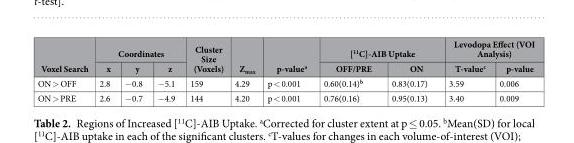table: (36, 37, 534, 103)
table column: (314, 37, 380, 103), (36, 37, 93, 103), (380, 37, 437, 103), (260, 37, 314, 103), (437, 37, 491, 103), (181, 37, 228, 103), (491, 37, 534, 103), (116, 37, 149, 103), (149, 37, 181, 103), (228, 37, 260, 103), (93, 37, 116, 103)
table column header: (36, 37, 534, 75)
table row: (36, 37, 534, 60), (36, 60, 534, 75), (36, 75, 534, 90), (36, 90, 534, 103)
table spanning cell: (314, 37, 437, 60), (437, 37, 534, 60), (36, 37, 93, 75), (260, 37, 314, 75), (93, 37, 181, 60), (181, 37, 228, 75), (228, 37, 260, 75)
